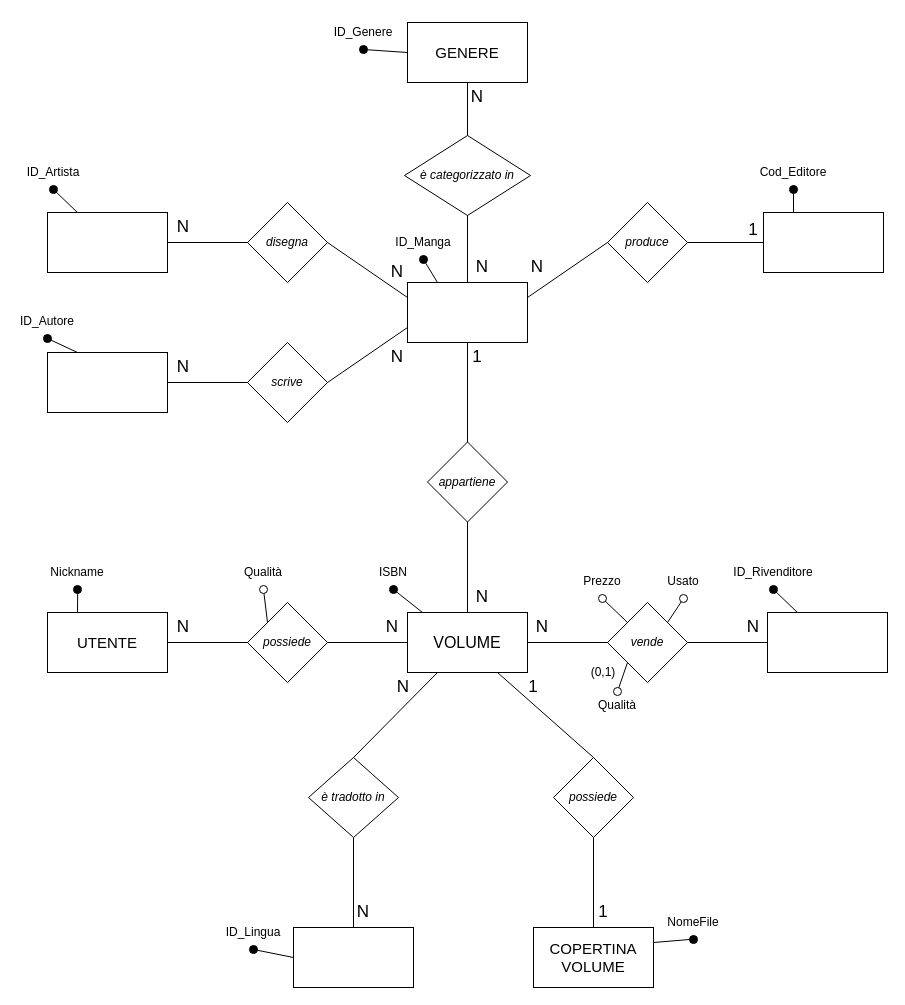
The diagram is 905 pixels wide and 1005 high, and some of its shapes have lost their labels. Each missing label, with the centre of its shape:
ARTISTA: (107,242)
AUTORE: (107,382)
EDITORE: (823,242)
LINGUA: (353,957)
MANGA: (467,312)
RIVENDITORE: (827,642)
